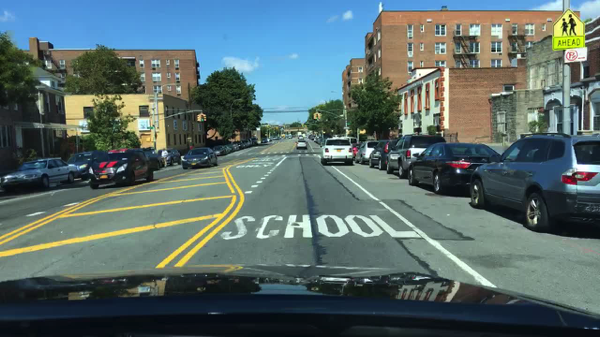car: (468, 132, 599, 235), (407, 141, 499, 195), (0, 157, 78, 195), (88, 146, 154, 190), (385, 134, 442, 179), (320, 137, 353, 167), (179, 147, 218, 170), (65, 152, 95, 181), (367, 141, 396, 169), (355, 139, 381, 166), (143, 151, 162, 171), (155, 148, 170, 169), (169, 149, 181, 164), (294, 139, 308, 150), (350, 141, 362, 152), (220, 146, 231, 156), (212, 146, 223, 155), (230, 143, 237, 152), (242, 139, 249, 148), (250, 138, 257, 146), (235, 143, 244, 149), (318, 139, 324, 146), (309, 134, 315, 141), (260, 139, 267, 145), (286, 132, 292, 138), (314, 136, 319, 142), (272, 137, 278, 141), (268, 138, 272, 144)
traffic light: (316, 114, 322, 122), (146, 137, 152, 143), (195, 115, 200, 122), (199, 114, 203, 122), (312, 113, 315, 122), (203, 114, 206, 122), (316, 114, 319, 120), (315, 114, 317, 121)
traffic sign: (550, 9, 585, 51), (563, 47, 586, 63), (147, 126, 154, 131), (345, 121, 350, 127)
